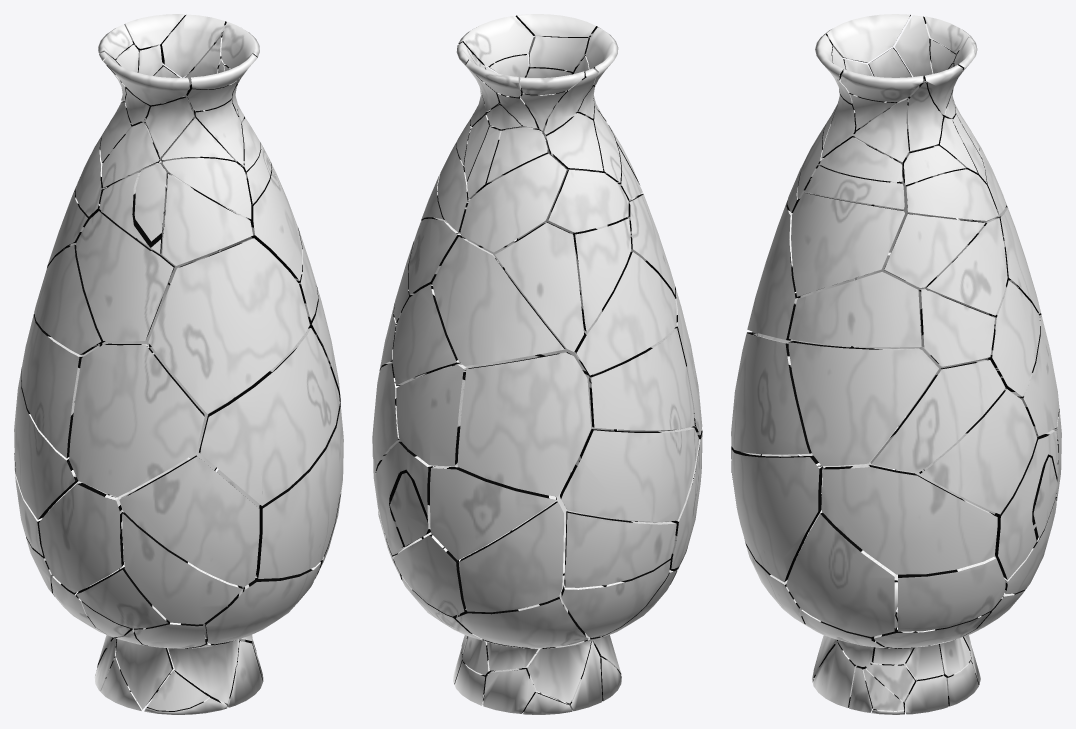
Rendered from VaseShattered.glb.
3 renders of one model, left to right at view 1: azimuth 30°, elevation 25°; view 2: azimuth 150°, elevation 25°; view 3: azimuth 270°, elevation 25°, orthographic.
Parts seen in each view (by area): view 1: Vase_cell.065, Vase_cell.080, Vase_cell.007, Vase_cell.074, Vase_cell.062, Vase_cell.014, Vase_cell.066, Vase_cell.013, Vase_cell.059, Vase_cell.052, Vase_cell.078, Vase_cell.022 (+39 smaller); view 2: Vase_cell.097, Vase_cell.022, Vase_cell.015, Vase_cell.012, Vase_cell.059, Vase_cell.069, Vase_cell.078, Vase_cell.063, Vase_cell.030, Vase_cell.026, Vase_cell.011, Vase_cell.077 (+42 smaller); view 3: Vase_cell.044, Vase_cell.008, Vase_cell.050, Vase_cell.014, Vase_cell.058, Vase_cell.061, Vase_cell.049, Vase_cell.002, Vase_cell.007, Vase_cell.038, Vase_cell.020, Vase_cell.075 (+41 smaller).
Part boxes in pixels (x1,y1,x2,y2): Vase_cell.065: (148, 238, 309, 413); Vase_cell.080: (69, 343, 204, 496); Vase_cell.007: (199, 328, 339, 505); Vase_cell.074: (119, 455, 259, 587); Vase_cell.062: (76, 211, 174, 341); Vase_cell.014: (255, 402, 343, 578); Vase_cell.066: (39, 483, 123, 592); Vase_cell.013: (122, 512, 242, 624); Vase_cell.059: (21, 314, 82, 458); Vase_cell.052: (162, 173, 252, 265); Vase_cell.078: (34, 245, 105, 354); Vase_cell.022: (14, 367, 78, 519); Vase_cell.097: (457, 352, 590, 496); Vase_cell.022: (560, 427, 698, 522); Vase_cell.015: (432, 236, 565, 365); Vase_cell.012: (458, 501, 563, 612); Vase_cell.059: (589, 328, 694, 430); Vase_cell.069: (430, 466, 556, 560); Vase_cell.078: (574, 251, 676, 375); Vase_cell.063: (564, 511, 676, 587); Vase_cell.030: (495, 221, 583, 351); Vase_cell.026: (460, 154, 566, 252); Vase_cell.011: (396, 364, 466, 466); Vase_cell.077: (456, 596, 589, 648); Vase_cell.044: (821, 465, 997, 574); Vase_cell.008: (788, 341, 938, 465); Vase_cell.050: (786, 512, 894, 636); Vase_cell.014: (731, 449, 822, 582); Vase_cell.058: (791, 192, 904, 296); Vase_cell.061: (789, 272, 921, 347); Vase_cell.049: (919, 389, 1037, 514); Vase_cell.002: (870, 359, 1005, 472); Vase_cell.007: (731, 332, 811, 454); Vase_cell.038: (898, 557, 1005, 631); Vase_cell.020: (884, 213, 985, 287); Vase_cell.075: (926, 217, 1007, 315).
Bounding box in the file's own units: 0.0492 × 0.104 × 0.0492.
1 material, 1 textured.
